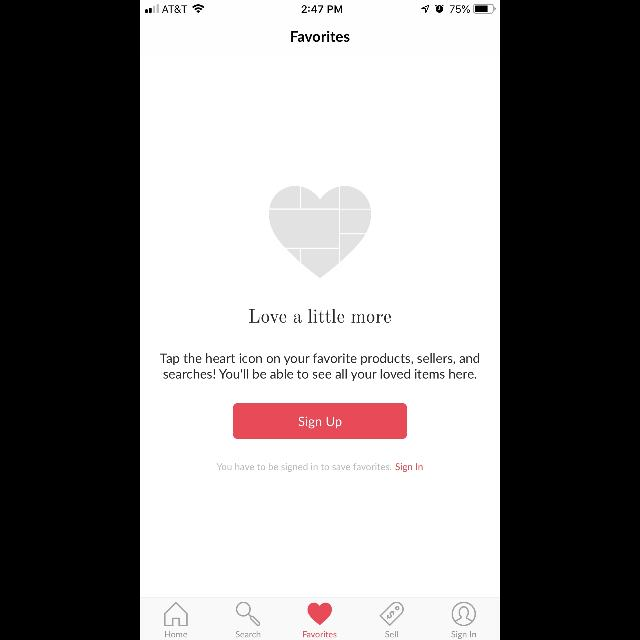icon: (164, 602, 188, 626), (236, 602, 260, 626), (380, 602, 404, 626), (452, 602, 476, 626), (308, 603, 332, 625)
image: (269, 185, 371, 278)
text: (160, 353, 480, 381), (217, 462, 423, 472), (249, 309, 391, 323), (292, 32, 350, 42), (304, 630, 336, 638), (236, 630, 260, 638), (452, 631, 476, 639), (166, 631, 188, 637), (384, 631, 398, 637)
textbutton: (233, 404, 407, 438)
uppertaskbar: (140, 0, 500, 14)
